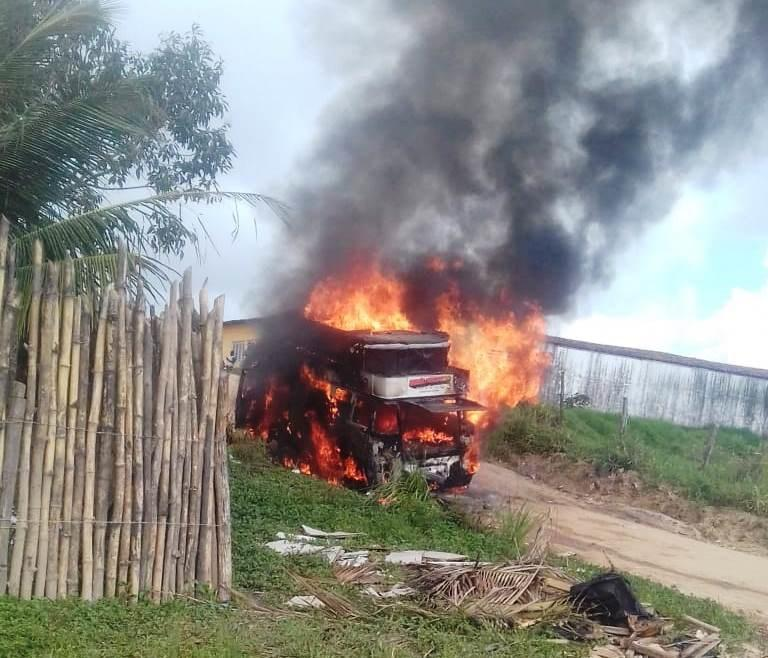fire: (435, 305, 550, 415), (299, 276, 411, 336)
smoke: (365, 7, 626, 268), (638, 51, 746, 202)
